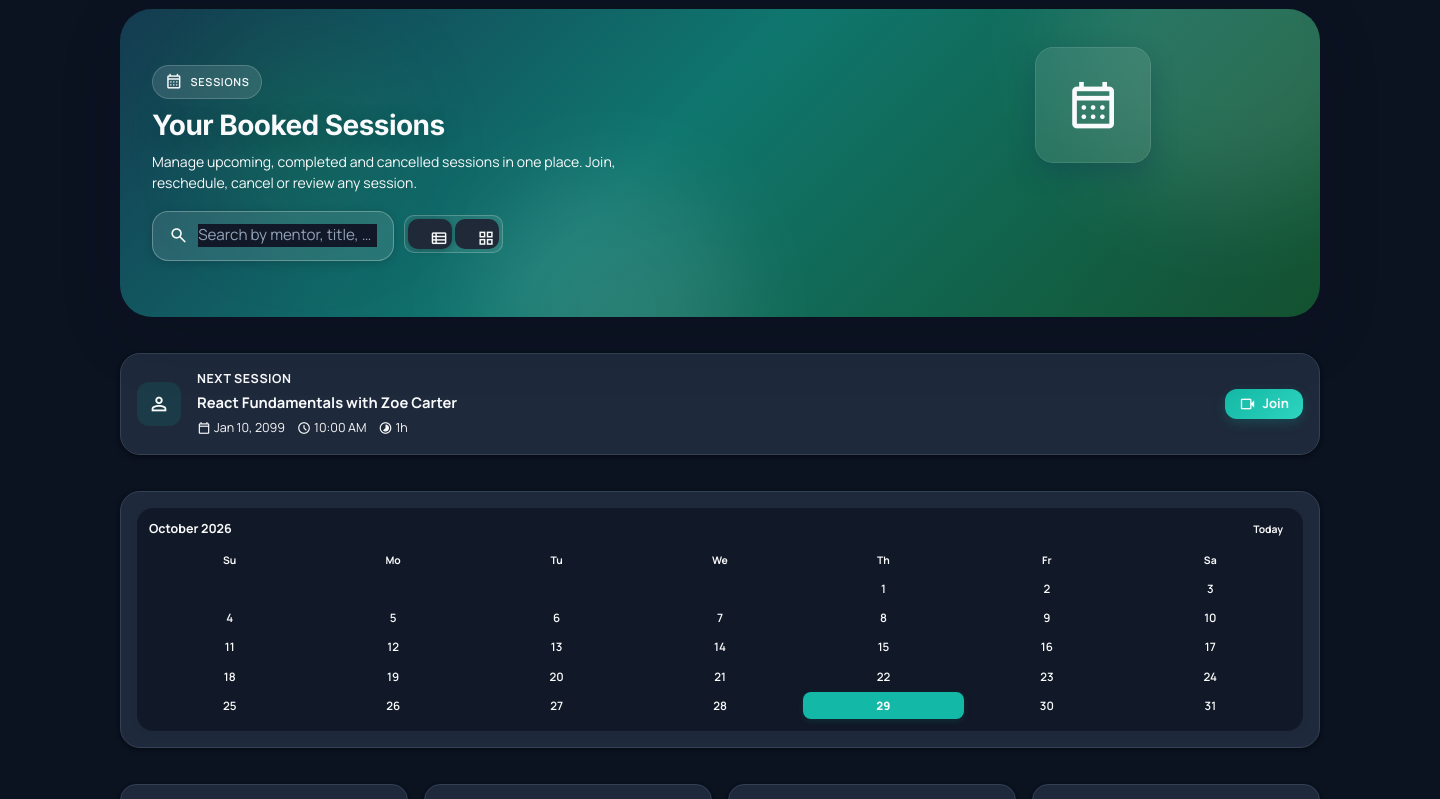
it: LearnerSessionsPage — Booked Sessions › shows the no-results empty state when nothing matches
Type "definitely-not-a-mentor" into the field named "search sessions" at {"x": 288, "y": 236}, box top-left (198, 224), bottom-right (377, 247)
(page scrolled)
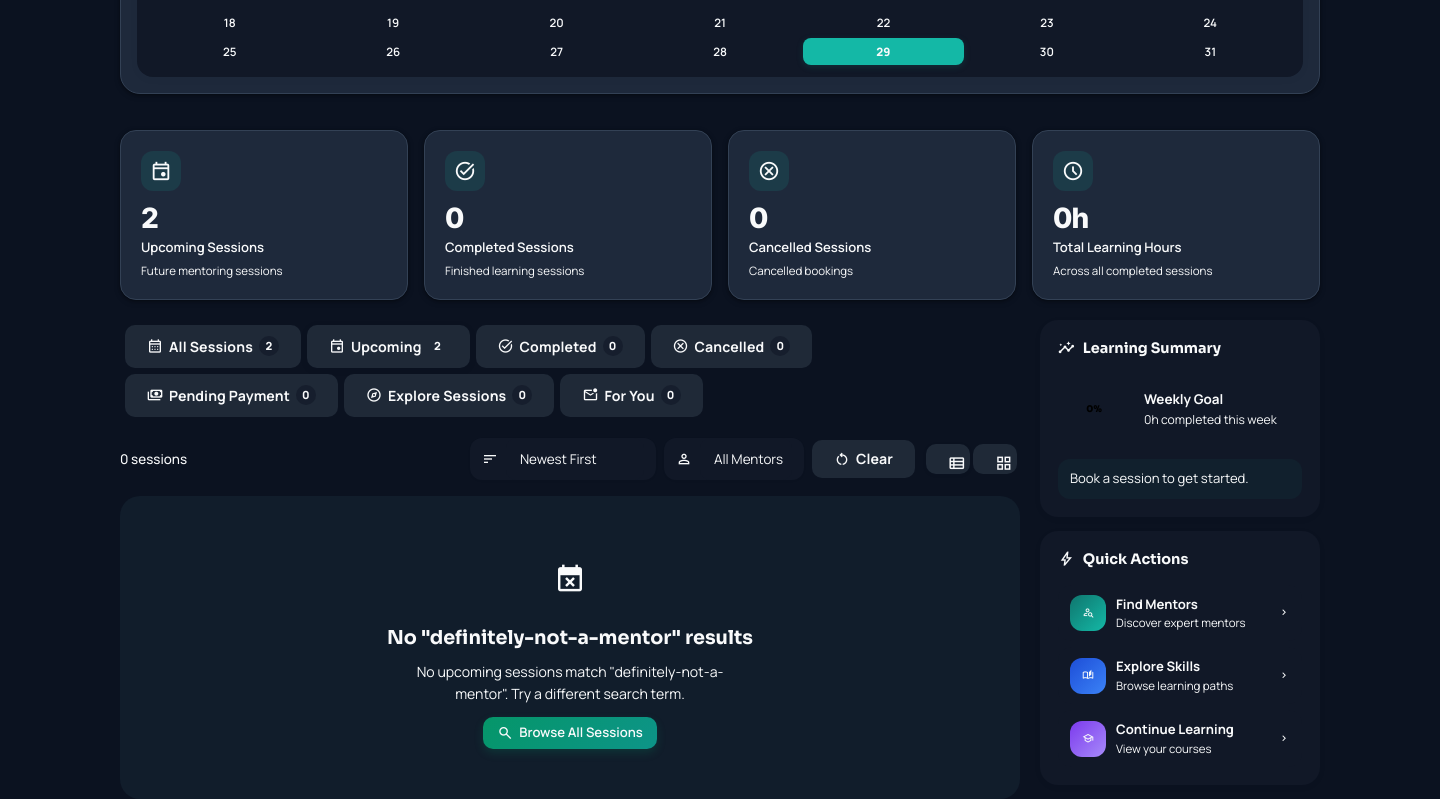
Expected: the text "React Fundamentals" is not shown
Result: the heading "No \"definitely-not-a-mentor\" results" is shown at top-left (387, 624), bottom-right (753, 653)
